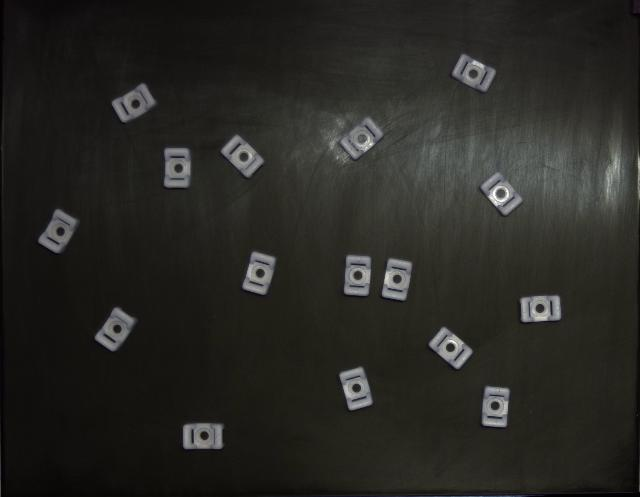first_side: (221, 135, 265, 179), (95, 308, 138, 352), (340, 118, 384, 160), (480, 172, 522, 215), (429, 328, 472, 370), (39, 210, 80, 254), (111, 84, 156, 122), (451, 54, 496, 92), (242, 253, 276, 295), (339, 368, 372, 411), (381, 259, 412, 301), (481, 386, 510, 429), (520, 295, 561, 324), (164, 148, 191, 189), (344, 255, 371, 296), (182, 424, 224, 450)
